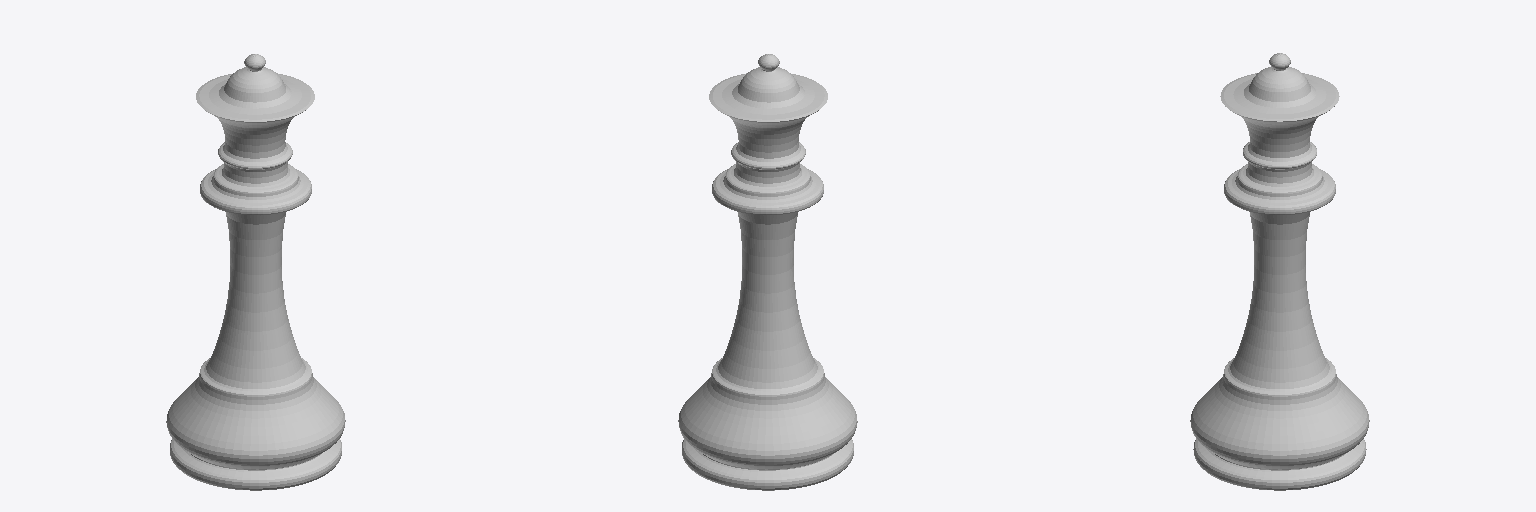
File: queen.obj
3 renders of one model, left to right at view 1: azimuth 30°, elevation 25°; view 2: azimuth 150°, elevation 25°; view 3: azimuth 270°, elevation 25°, orthographic.
Visible parts, largest first — view 1: queen_white_Cylinder.036; view 2: queen_white_Cylinder.036; view 3: queen_white_Cylinder.036.
Part boxes in pixels (left/top/right/bottom): queen_white_Cylinder.036: left=166, top=54, right=345, bottom=490; queen_white_Cylinder.036: left=678, top=54, right=857, bottom=490; queen_white_Cylinder.036: left=1190, top=53, right=1369, bottom=490.
Size of the model in its own units: 1.33 by 3.31 by 1.33.